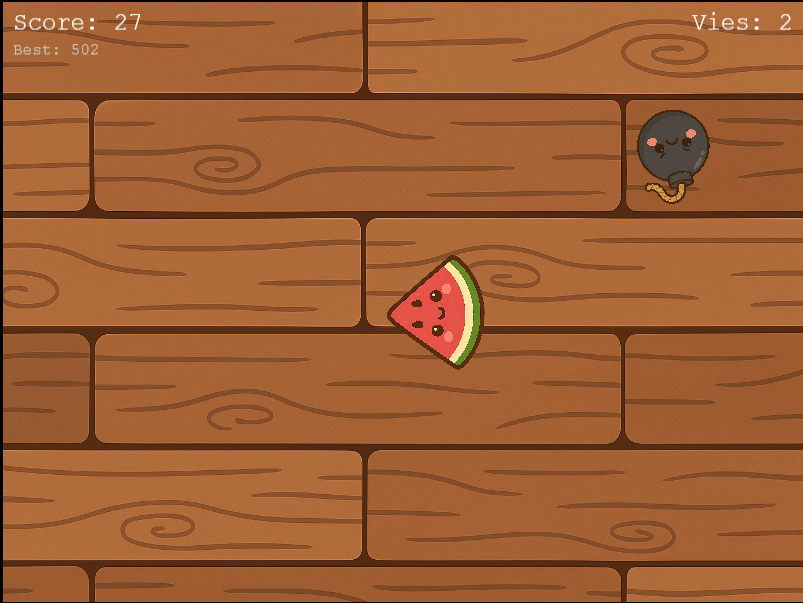bomb: (616, 103, 725, 212)
fruit: (377, 252, 500, 375)
